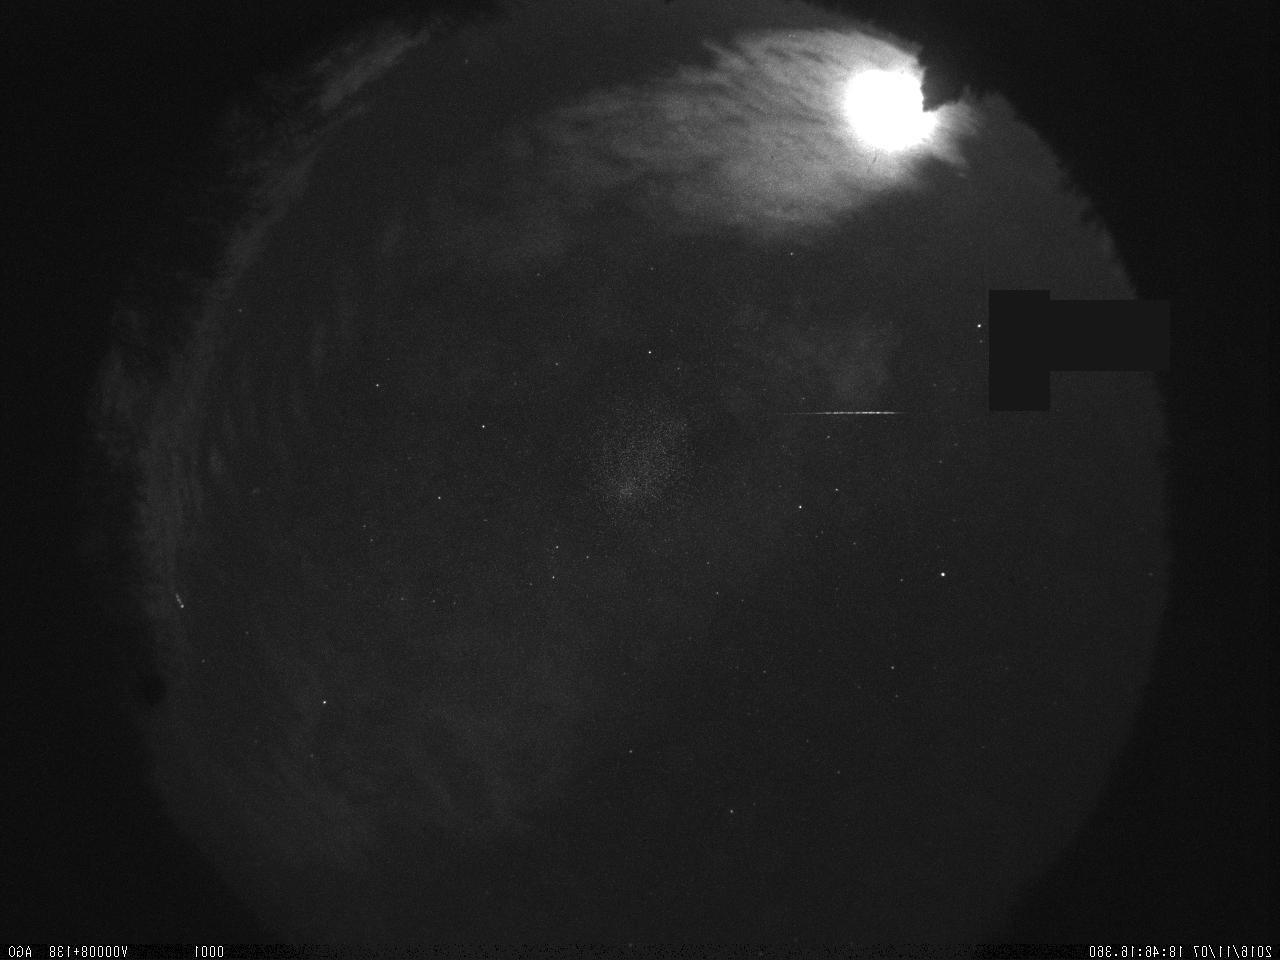meteor: (768, 395, 902, 426)
